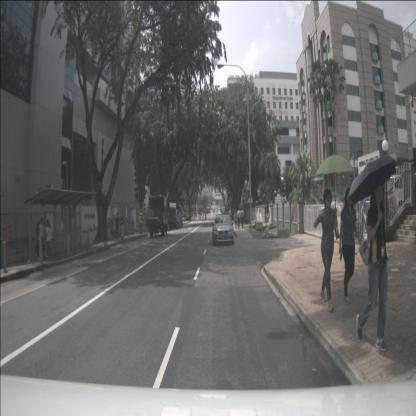human-pedestrian-adult: (348, 154, 396, 353), (313, 189, 338, 313), (338, 187, 362, 305), (46, 219, 52, 261), (35, 220, 41, 262), (40, 218, 45, 258), (115, 213, 120, 240), (120, 212, 124, 239), (237, 208, 241, 229), (240, 208, 244, 228), (234, 210, 238, 229), (228, 208, 232, 224), (205, 212, 207, 222), (202, 212, 204, 222), (199, 213, 201, 221)
vehicle-car: (212, 214, 234, 245), (302, 201, 320, 218), (310, 198, 326, 215), (271, 197, 290, 210), (329, 199, 344, 214)
vehicle-truck: (383, 174, 415, 212), (146, 195, 168, 238), (163, 202, 181, 231), (206, 204, 210, 214)
